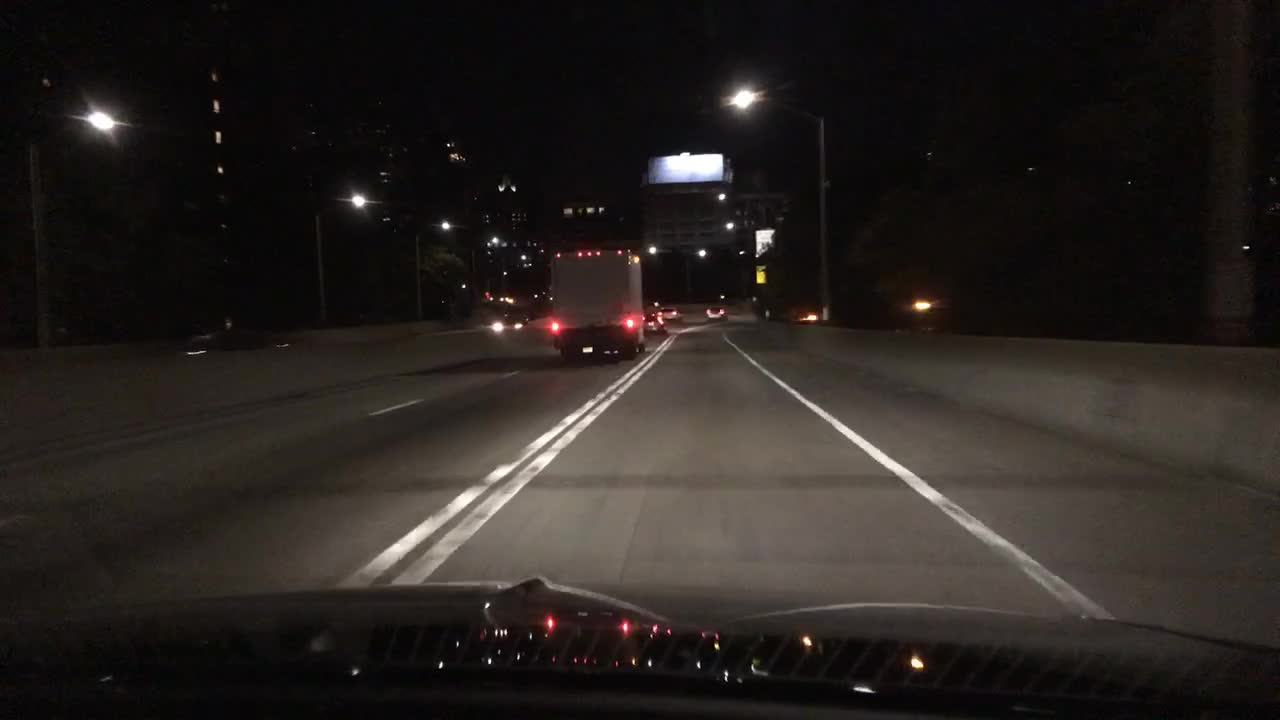car: (177, 327, 295, 357), (638, 311, 670, 336), (491, 314, 526, 332), (660, 303, 680, 323), (703, 305, 729, 320)
truck: (543, 247, 646, 361)
